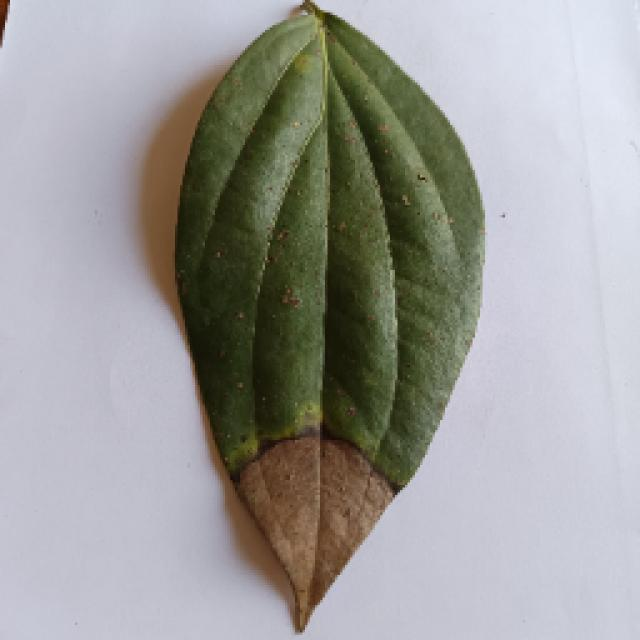footrot: (170, 12, 490, 630)
